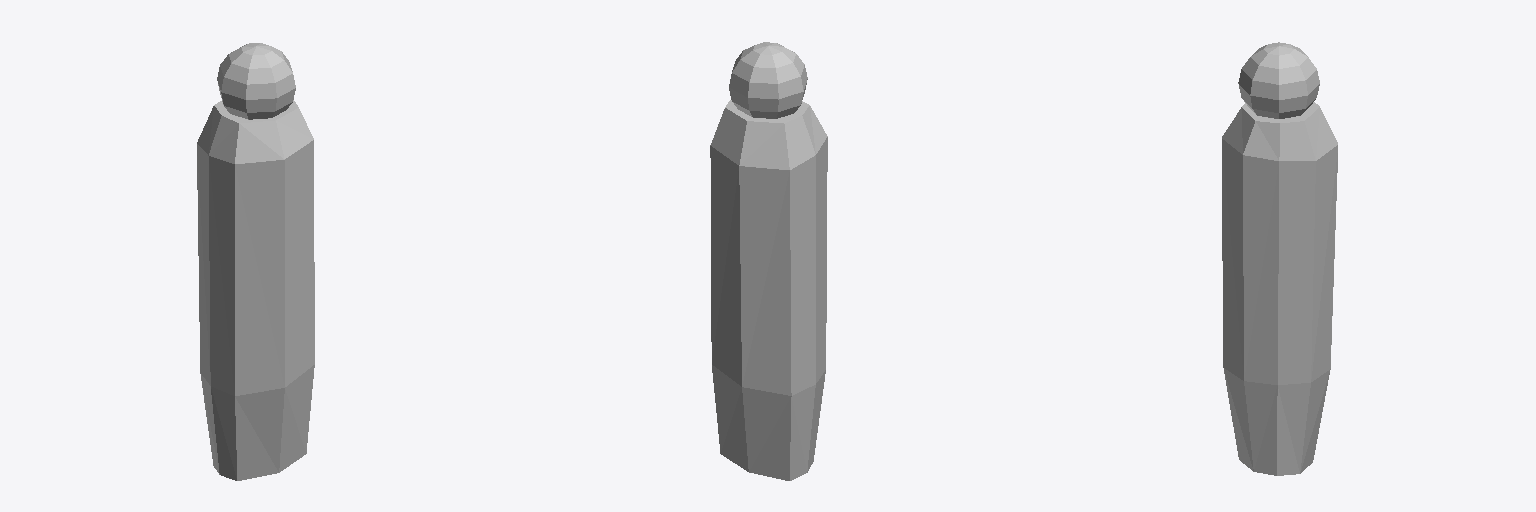
The model's file is right_upper_leg.obj.
3 views of the same model, side by side, from view 1: azimuth 30°, elevation 25°; view 2: azimuth 150°, elevation 25°; view 3: azimuth 270°, elevation 25° (orthographic).
Visible parts, largest first — view 1: Right_Upper_Leg.001_Cube.018; view 2: Right_Upper_Leg.001_Cube.018; view 3: Right_Upper_Leg.001_Cube.018.
Part boxes in pixels (x1,y1,x2,y2): Right_Upper_Leg.001_Cube.018: (197, 43, 314, 480); Right_Upper_Leg.001_Cube.018: (710, 42, 827, 480); Right_Upper_Leg.001_Cube.018: (1222, 42, 1337, 475).
Bounding box in the file's own units: 0.2522 × 1.06 × 0.2678.